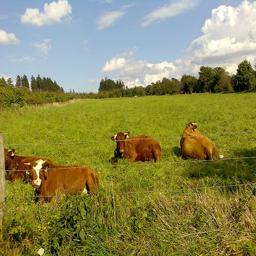cow: (47, 219, 193, 256), (7, 219, 105, 256), (212, 174, 256, 236), (206, 189, 256, 241)
